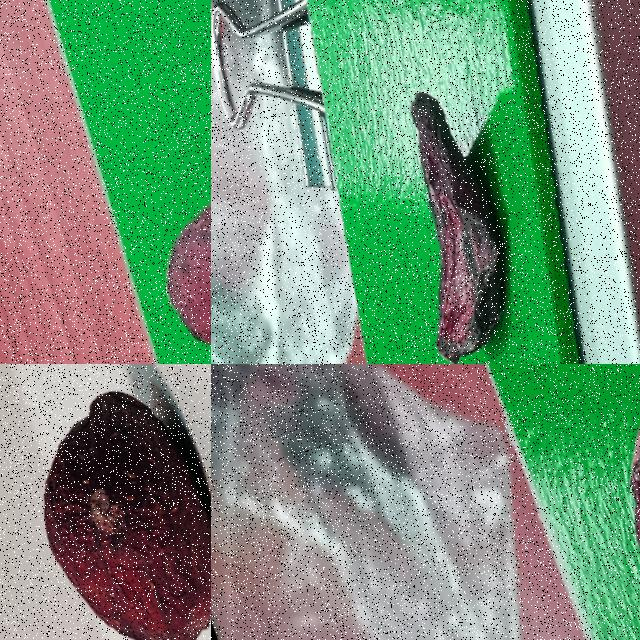Fine_cocoabeans: (0, 364, 210, 639), (66, 6, 210, 363)
Flat_cocoabeans: (340, 38, 592, 363), (540, 364, 639, 639)
